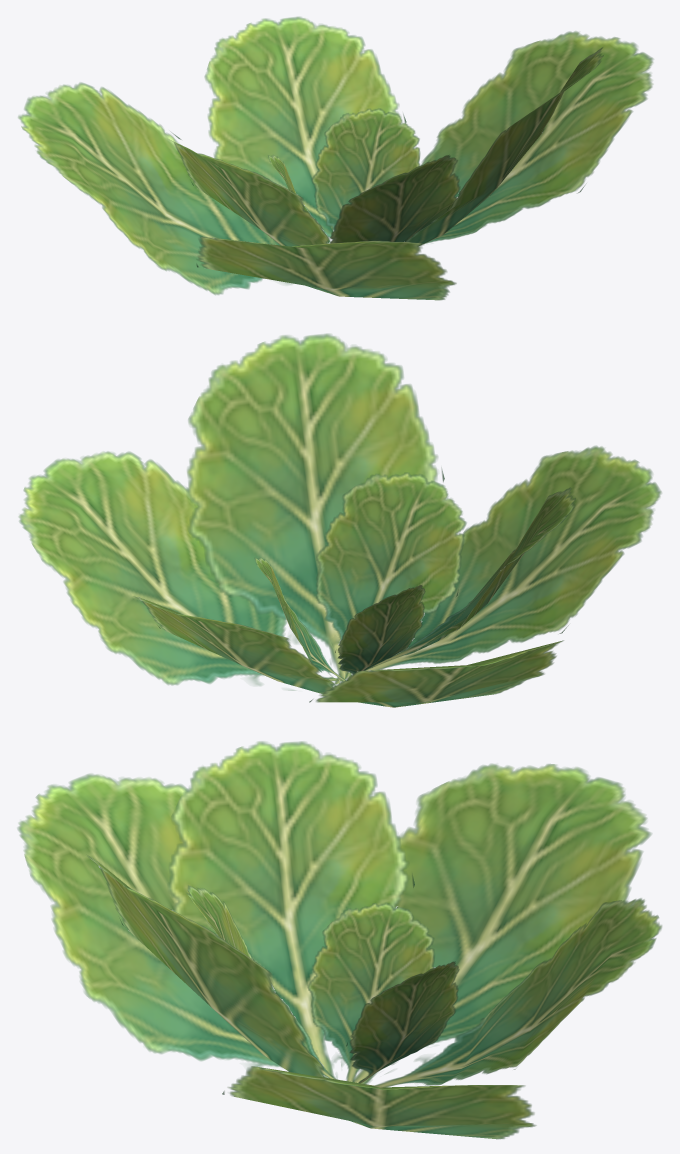
The model's file is plant_cabbage_S2.gltf.
3 views of the same model, one above another, from view 1: azimuth 30°, elevation 25°; view 2: azimuth 150°, elevation 25°; view 3: azimuth 270°, elevation 25° (orthographic). The views are drawn at different scales.
Parts seen in each view (by area): view 1: plant_cabbage_S2; view 2: plant_cabbage_S2; view 3: plant_cabbage_S2.
Part boxes in pixels (x1,y1,x2,y2): plant_cabbage_S2: (18, 16, 653, 300); plant_cabbage_S2: (18, 333, 661, 707); plant_cabbage_S2: (17, 741, 661, 1139).
Size of the model in its own units: 0.5807 by 0.248 by 0.4785.
Materials: 1 (1 with a texture image).
